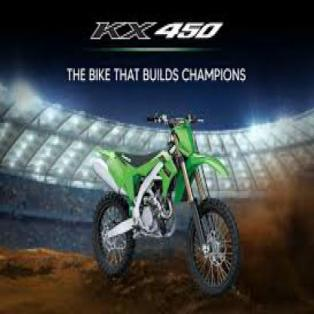Motocicleta: (86, 104, 241, 296)
